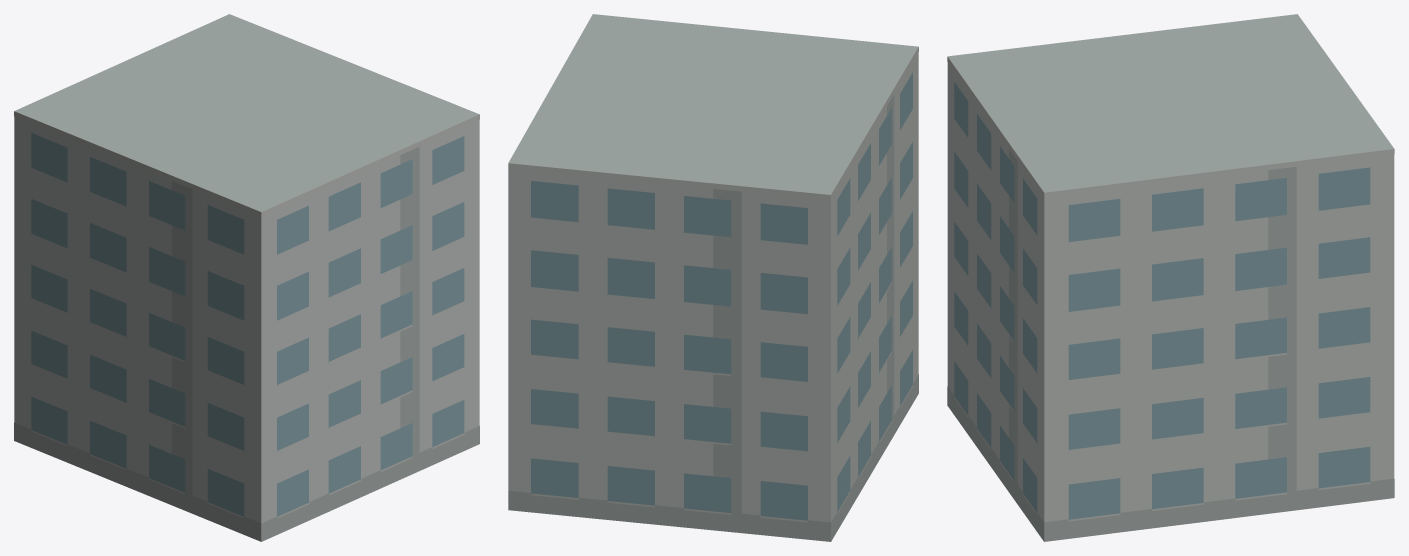
File: survey-upis-32611439.glb
The picture shows the model from 3 angles, left to right: view 1: azimuth 30°, elevation 25°; view 2: azimuth 150°, elevation 25°; view 3: azimuth 270°, elevation 25°; orthographic projection. The views are drawn at different scales.
Visible parts, largest first — view 1: survey-upis-32611439.tmp; view 2: survey-upis-32611439.tmp; view 3: survey-upis-32611439.tmp.
Part boxes in pixels (x1=…): survey-upis-32611439.tmp: x1=14, y1=14, x2=479, y2=541; survey-upis-32611439.tmp: x1=508, y1=14, x2=918, y2=541; survey-upis-32611439.tmp: x1=947, y1=14, x2=1394, y2=541.
Size of the model in its own units: 17.03 by 15.5 by 18.
